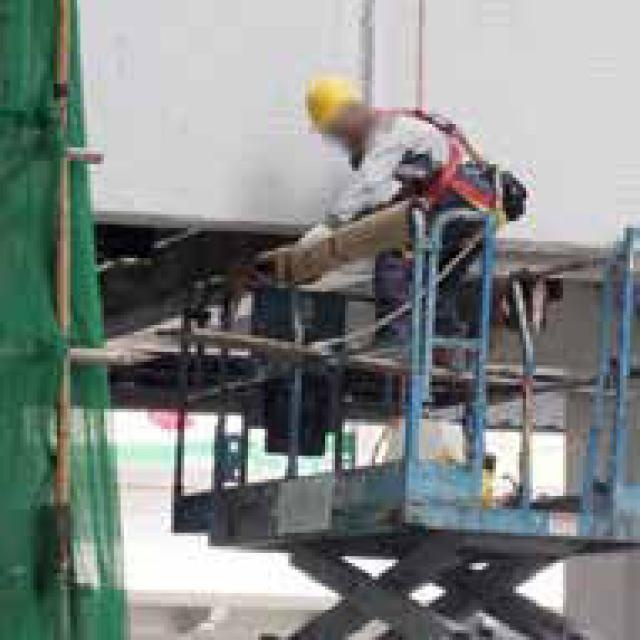Arnes_seguridad: (387, 108, 511, 223)
